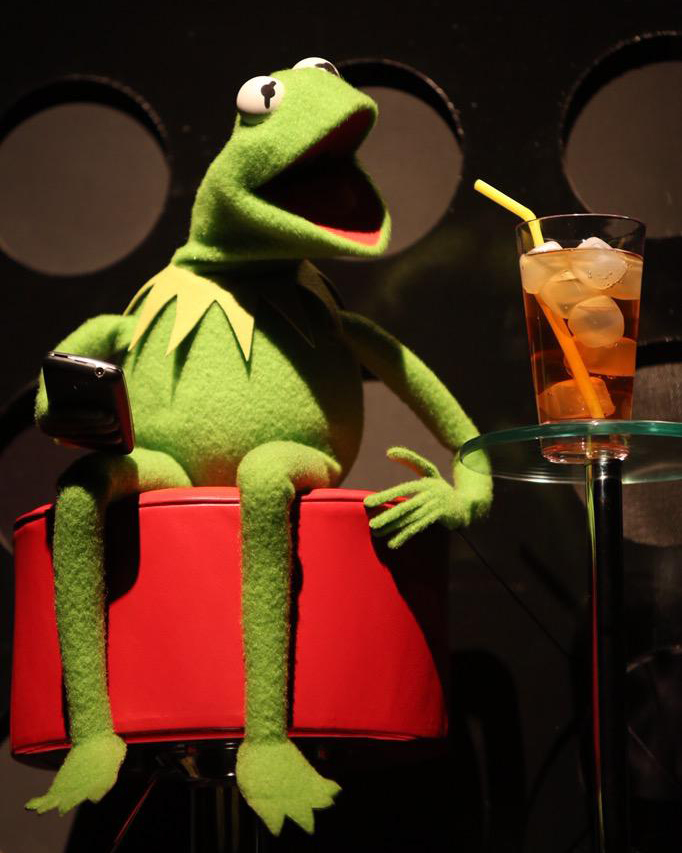kermit: (193, 53, 402, 283)
